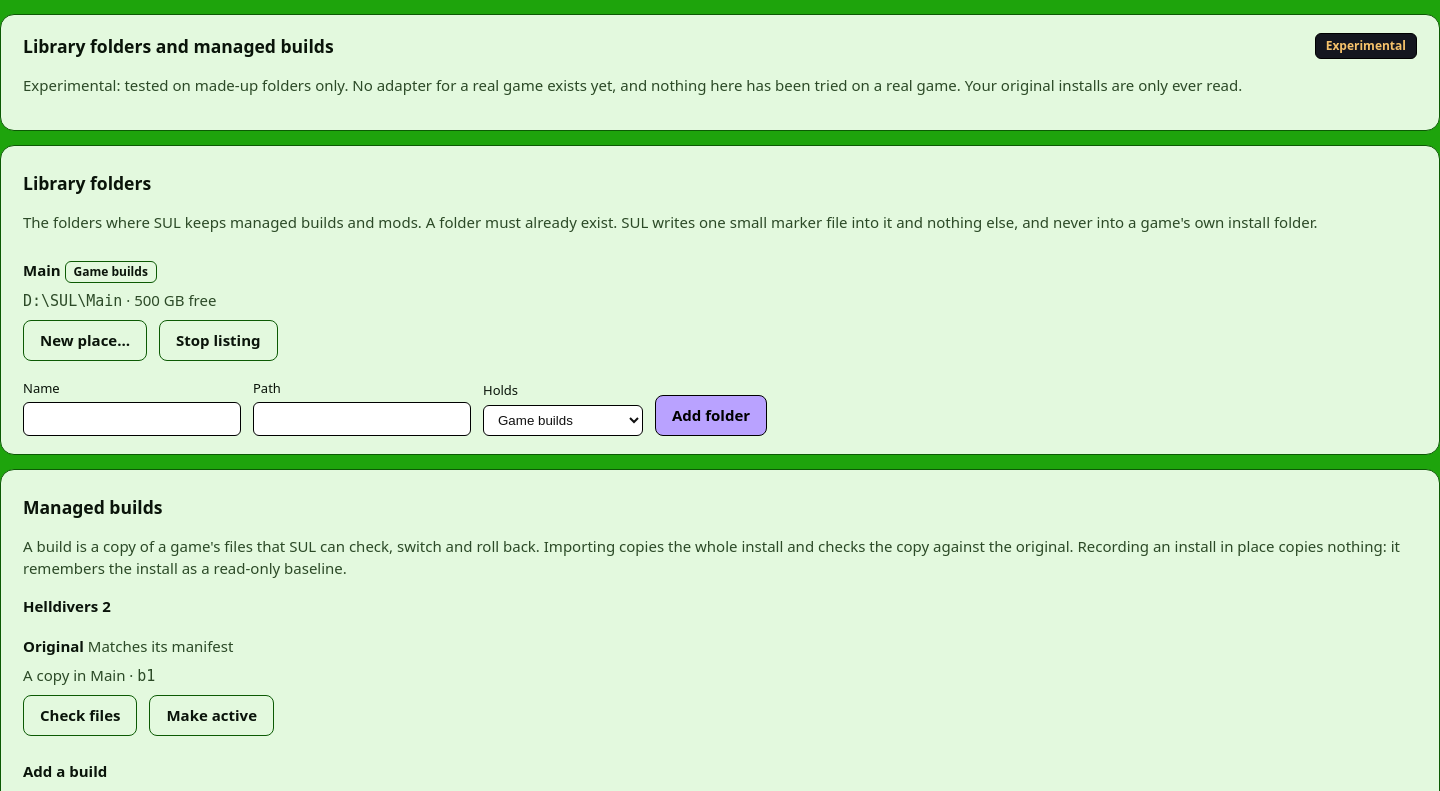
Test: the folders-and-builds panel, clicked through › stopping to list a folder asks first; Cancel changes nothing; the core's refusal is shown
Later steps or results of the test are not shown.
Click the button with aria-label "Stop listing Main": (218, 340) [159,320,278,361]
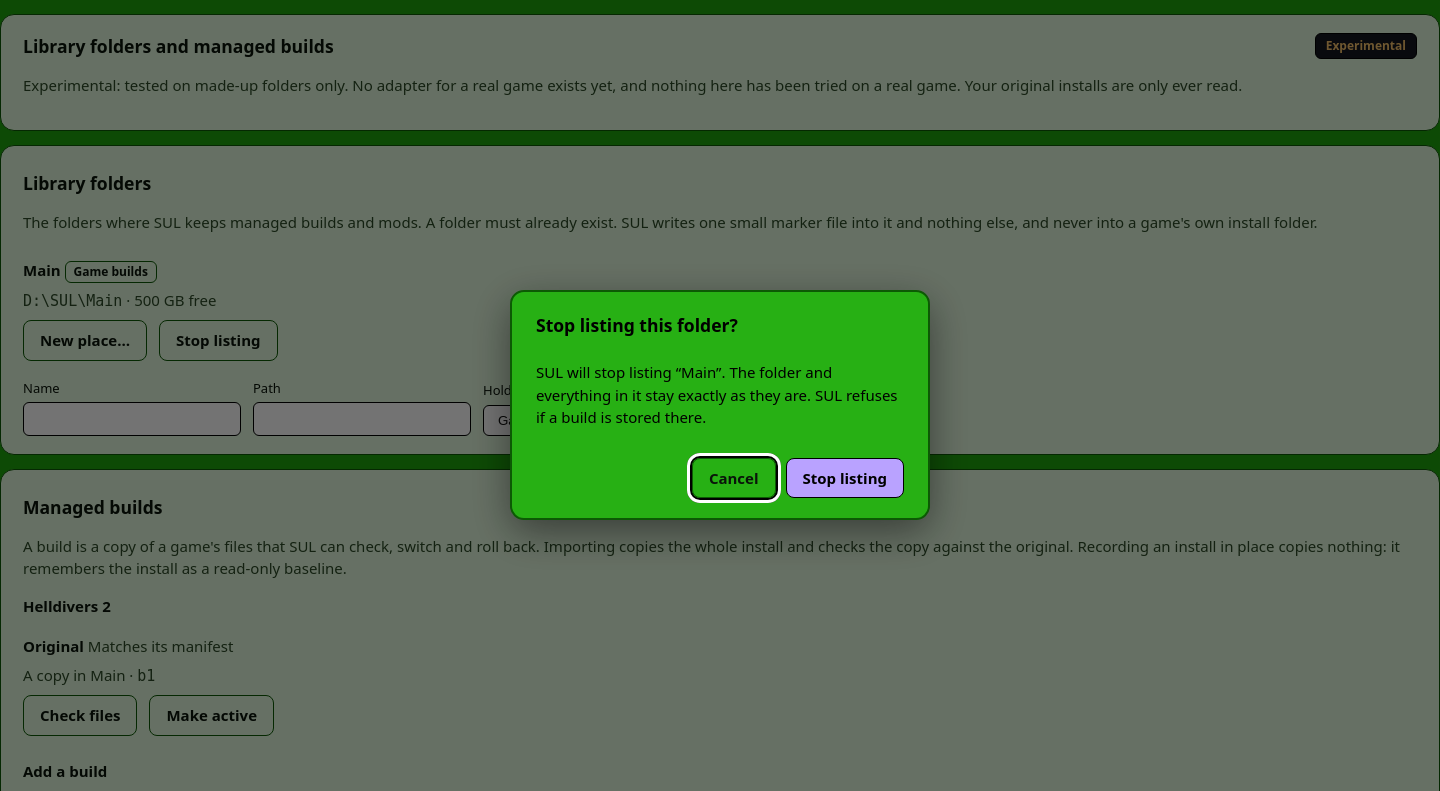
expect the dialog shows "The folder and everything in it stay exactly as they are": met, box [536,362,898,427]
